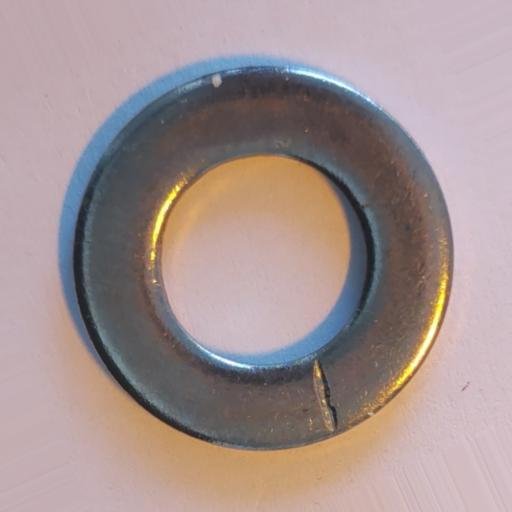scratch: (311, 355, 338, 435)
